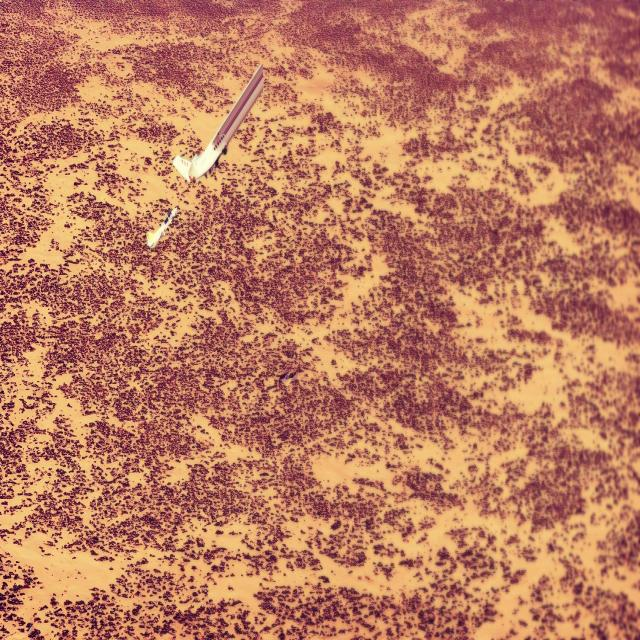airplane: (172, 62, 264, 185), (147, 205, 180, 250)
